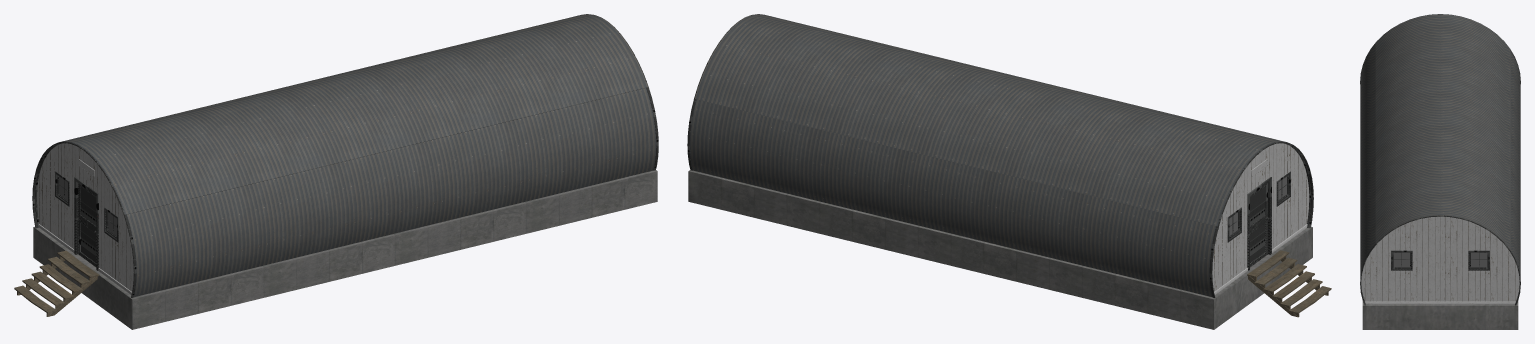
Rendered from SM_Building_01.fbx.
3 views of the same model, side by side, from view 1: azimuth 30°, elevation 25°; view 2: azimuth 150°, elevation 25°; view 3: azimuth 270°, elevation 25° (orthographic). The views are drawn at different scales.
Parts seen in each view (by area): view 1: SM_Building_01_LOD0; view 2: SM_Building_01_LOD0; view 3: SM_Building_01_LOD0.
Boxes of the visible parts, box(x1,y1,x2,y2) form: SM_Building_01_LOD0: box(14, 14, 658, 329); SM_Building_01_LOD0: box(687, 14, 1331, 329); SM_Building_01_LOD0: box(1360, 14, 1520, 329).
Bounding box in the file's own units: 1971 × 603 × 472.
Materials: 6 (6 with a texture image).
